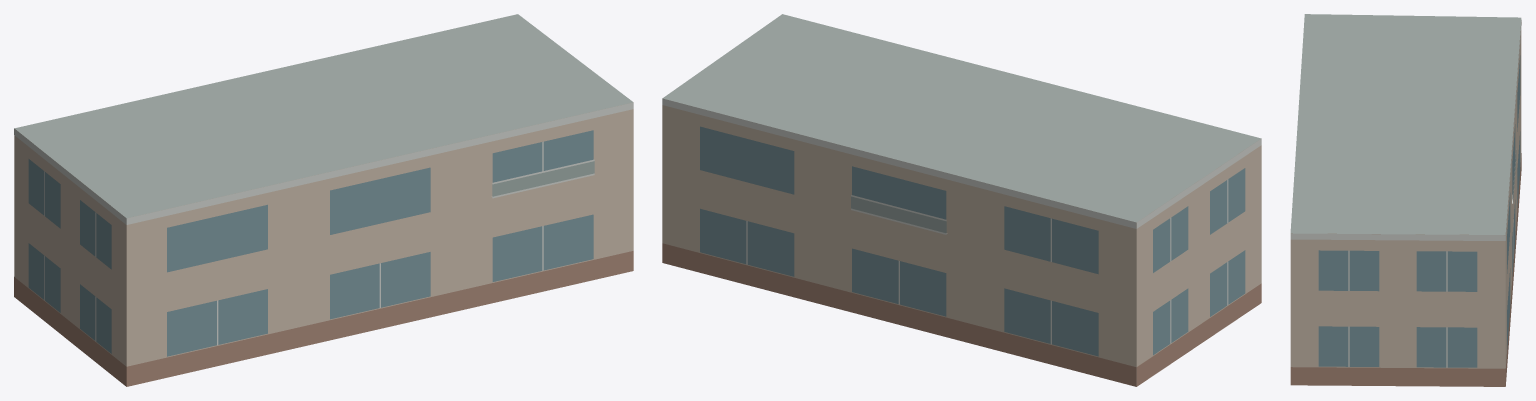
File: survey-upis-32874288.glb
3 renders of one model, left to right at view 1: azimuth 30°, elevation 25°; view 2: azimuth 150°, elevation 25°; view 3: azimuth 270°, elevation 25°, orthographic. The views are drawn at different scales.
Visible parts, largest first — view 1: survey-upis-32874288.tmp; view 2: survey-upis-32874288.tmp; view 3: survey-upis-32874288.tmp.
Boxes of the visible parts, box(x1,y1,x2,y2) form: survey-upis-32874288.tmp: box(14, 14, 633, 386); survey-upis-32874288.tmp: box(662, 14, 1261, 386); survey-upis-32874288.tmp: box(1290, 14, 1521, 386).
Size of the model in its own units: 19.06 by 6.1 by 8.42.
